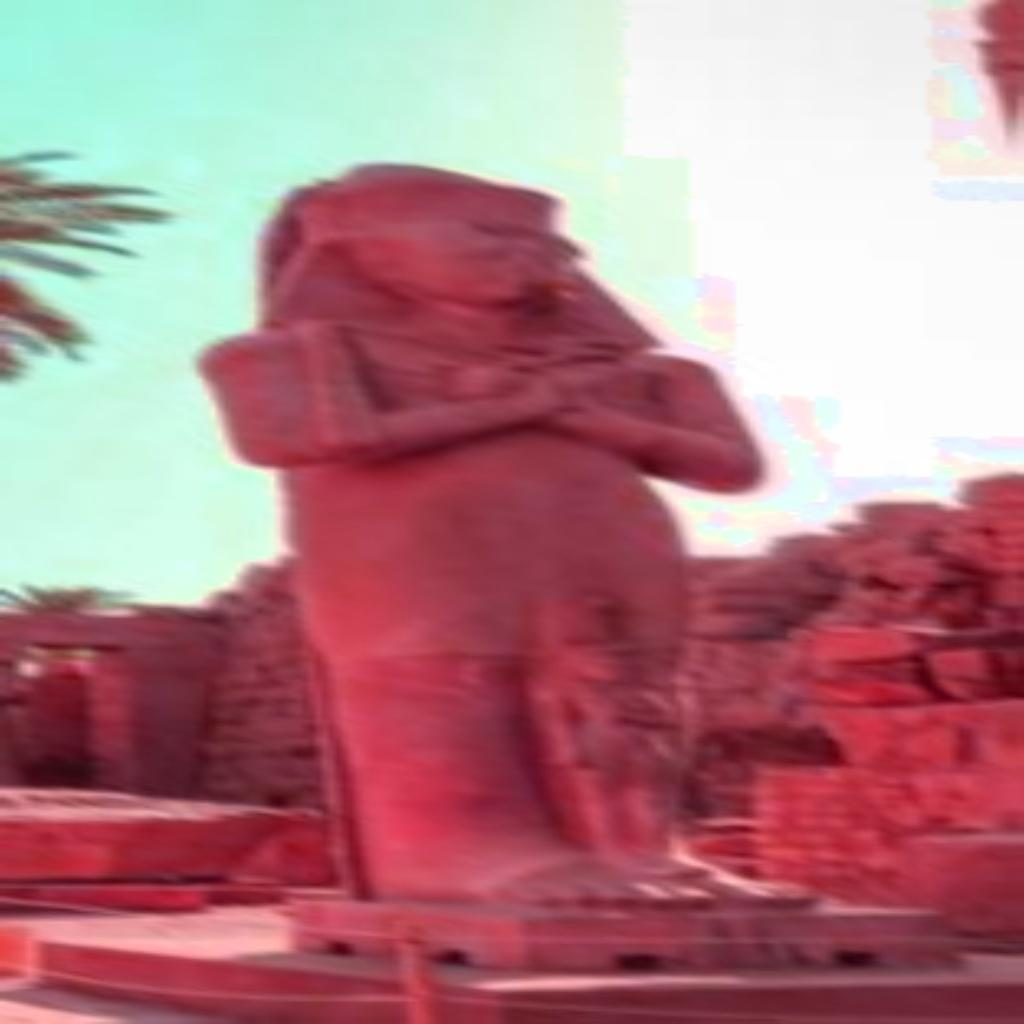Standing Statue of King Ramses II: (197, 160, 827, 914)
